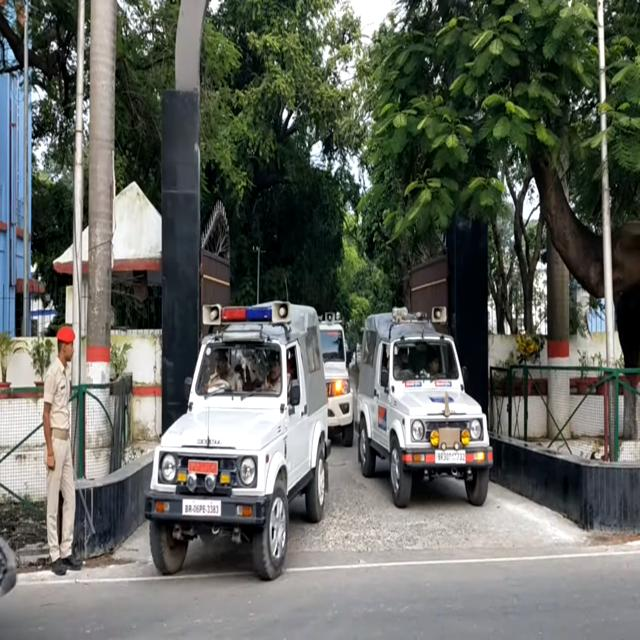emergency-vehicles: (144, 290, 336, 587), (351, 304, 498, 514)
